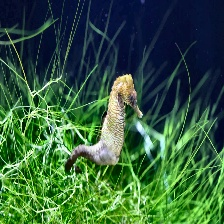seahorse: (64, 73, 143, 174)
